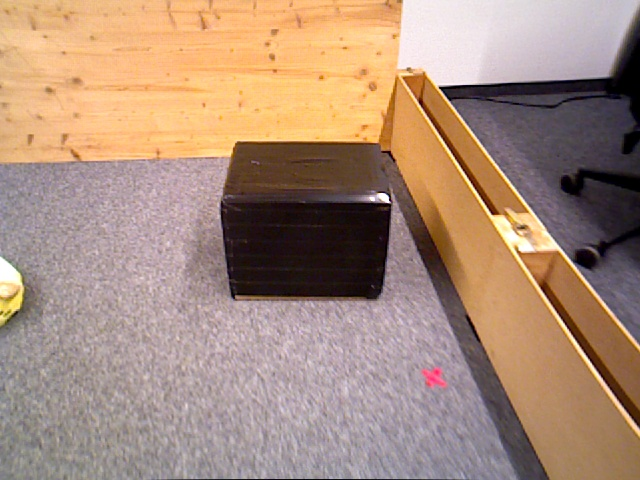grasp: (1, 255, 23, 331)
push: (233, 143, 392, 307)
